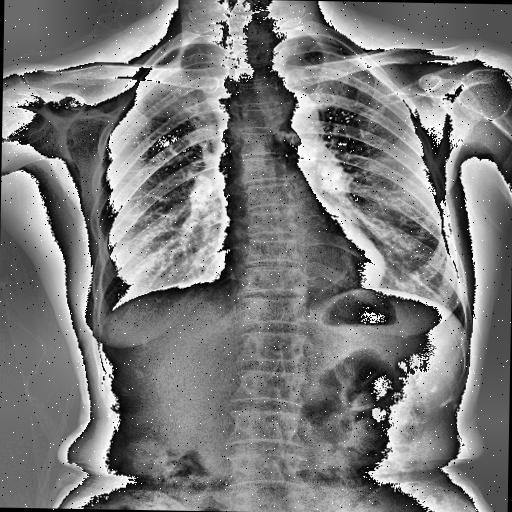0- Aortic enlargement: (256, 86, 323, 150), (256, 87, 319, 151)
2- Calcification: (314, 159, 346, 194), (317, 162, 346, 194), (271, 125, 302, 146), (274, 128, 300, 144)
9- Other lesion: (280, 132, 300, 146)
